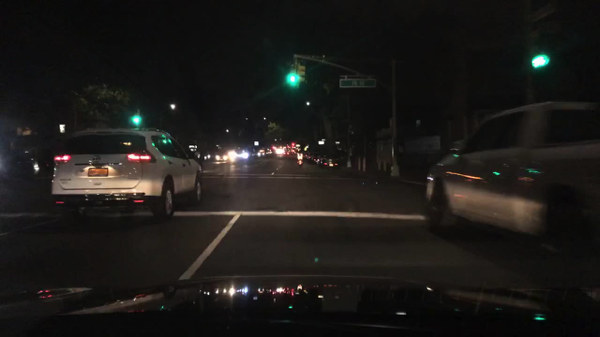car: (424, 101, 597, 259), (51, 128, 202, 223), (1, 156, 38, 181), (230, 146, 256, 162), (320, 155, 341, 169), (214, 150, 231, 162), (46, 153, 55, 172), (197, 152, 212, 162), (313, 153, 325, 164), (305, 153, 317, 162), (276, 146, 287, 155), (299, 149, 308, 160), (257, 148, 266, 158), (287, 147, 296, 155), (296, 146, 303, 153), (271, 148, 277, 155), (265, 149, 271, 155)
motor: (296, 160, 303, 169)
rider: (296, 153, 303, 160)
traffic light: (531, 55, 550, 70), (297, 63, 305, 82), (288, 60, 294, 84), (133, 108, 140, 125), (289, 141, 296, 148), (270, 145, 275, 151)
traffic sign: (338, 79, 376, 87), (317, 141, 324, 145), (253, 141, 258, 146)
